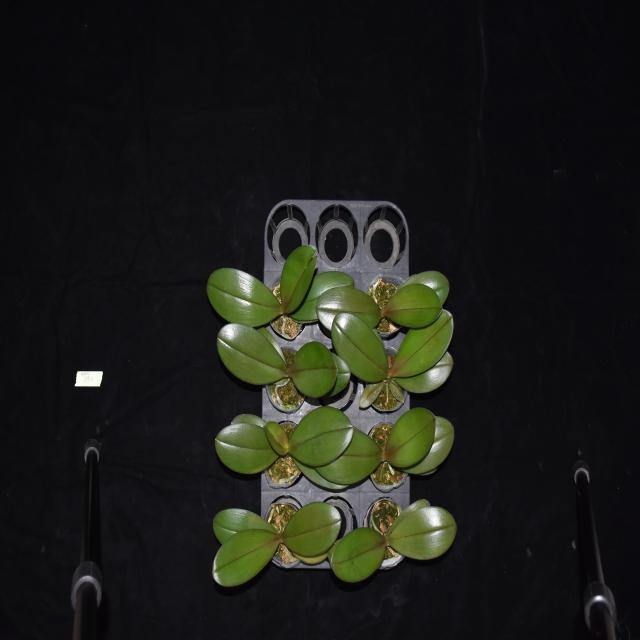leaf: (212, 321, 288, 388), (204, 264, 284, 326), (388, 310, 453, 377), (315, 426, 383, 485), (212, 531, 280, 588), (332, 314, 388, 382), (388, 507, 458, 561), (289, 406, 354, 464), (281, 499, 342, 560), (289, 270, 355, 326), (382, 405, 438, 469), (215, 422, 280, 476), (330, 523, 387, 584), (399, 414, 455, 474), (280, 242, 320, 318), (316, 286, 382, 330), (288, 342, 338, 398), (383, 283, 442, 330), (391, 351, 453, 392), (213, 506, 277, 544), (292, 458, 348, 492), (387, 497, 431, 535), (394, 273, 452, 301), (327, 352, 352, 395), (262, 420, 288, 457), (358, 376, 384, 408), (232, 410, 267, 429), (387, 382, 406, 405)
